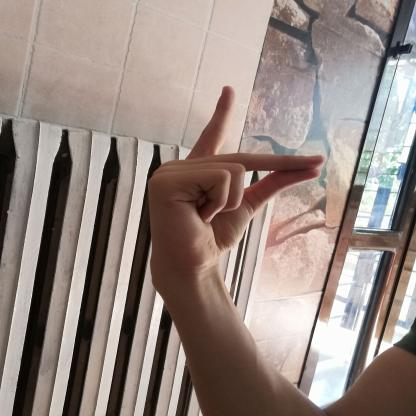TAA: (132, 76, 340, 284)
